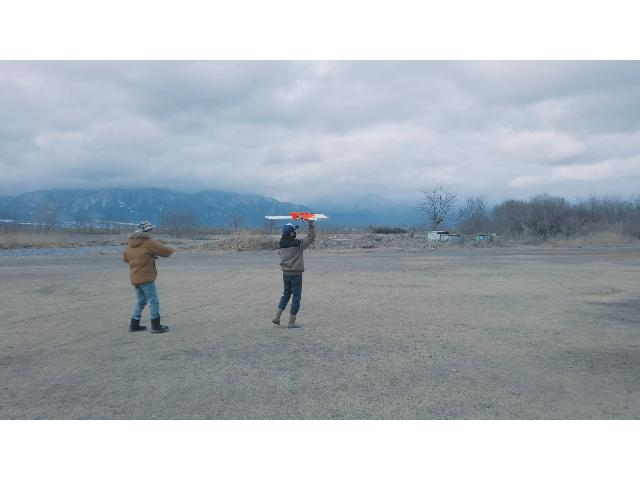Anti-Drone: (260, 208, 332, 224)
